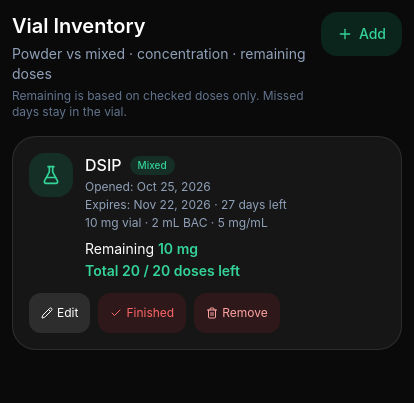
Test: Vial opened date, expiration, and remove › Finished still retires the vial and keeps it on file
This screenshot has width=414, height=403.
Click the button "Finished". click: x=142, y=313
box: x1=98 y1=293 x2=186 y2=333
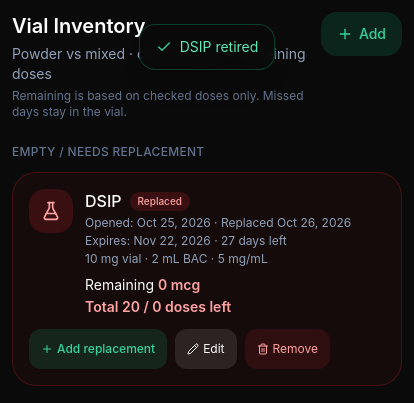
Check: the text "DSIP" is shown, box x1=85 y1=189 x2=122 y2=213
Check: the text "Replaced" is shown, box x1=130 y1=192 x2=190 y2=210
Check: the button "Edit" is shown, box x1=175 y1=329 x2=237 y2=369
